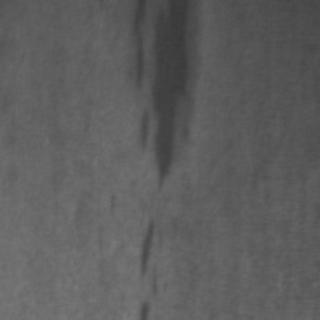inclusion: (130, 0, 194, 190), (128, 213, 164, 315)
